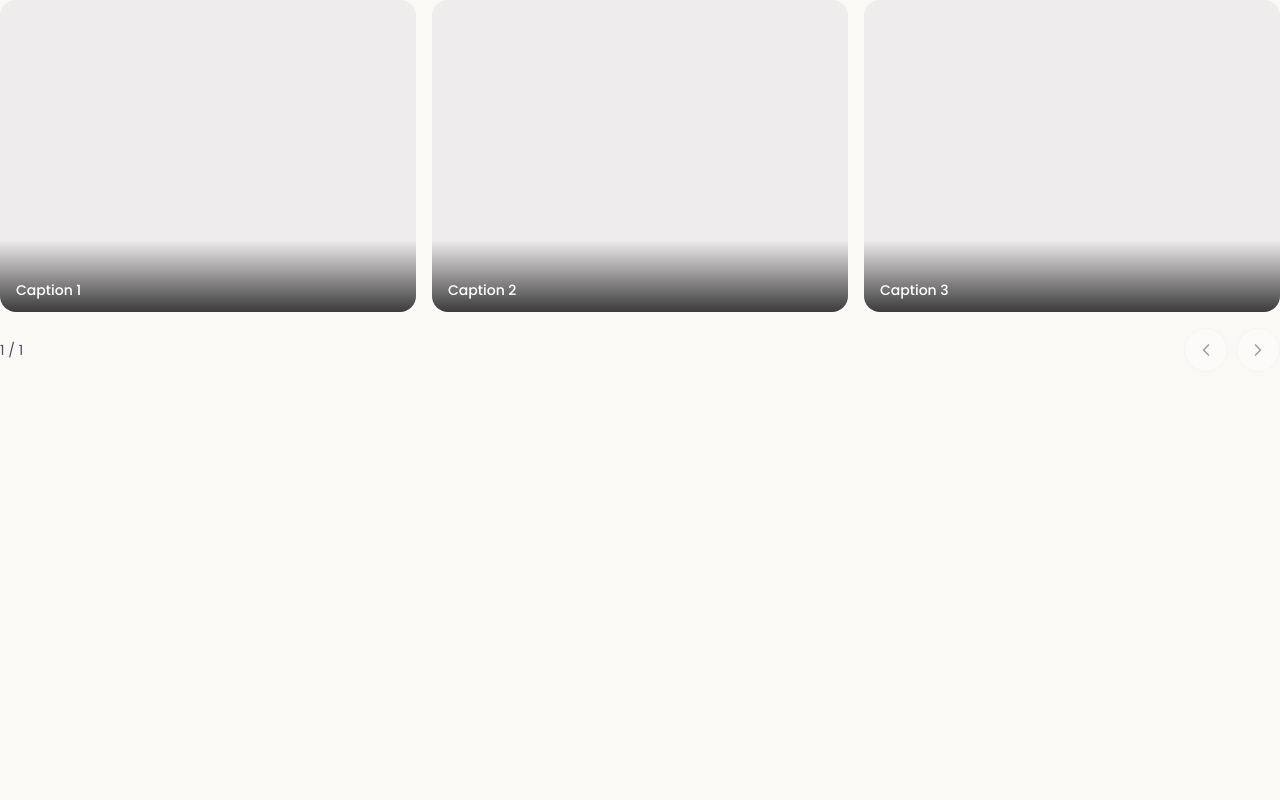
Test: Gallery › opens the photo viewer and closes it with the close button
Click the button with aria-label "Open photo: Caption 2".
click(640, 156)  # box left=432, top=0, right=848, bottom=312
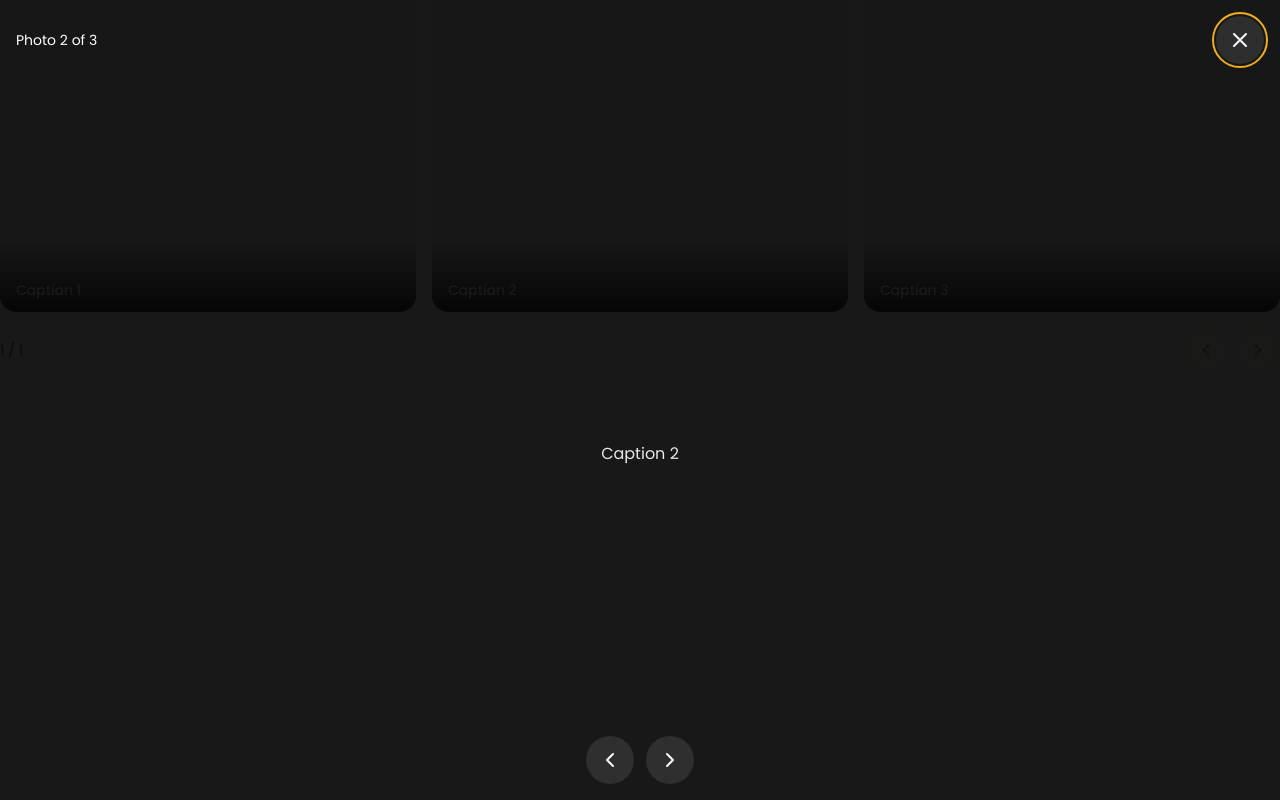
Expected: the dialog named "Photo viewer" is shown
Expected: the text "Photo 2 of 3" is shown, left=16, top=30, right=97, bottom=50
Click the button named "Close photo viewer".
click(1240, 40)  # box left=1216, top=16, right=1264, bottom=64
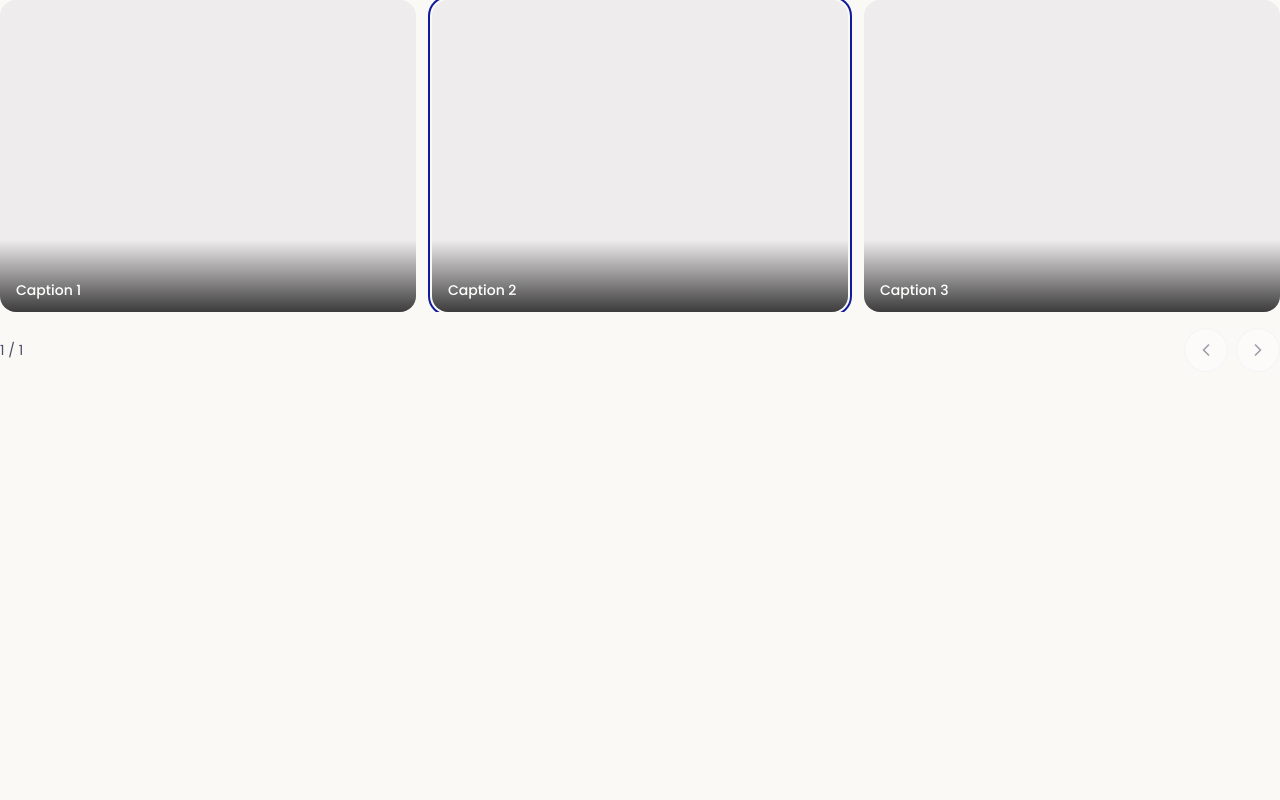
Expected: the dialog is gone
